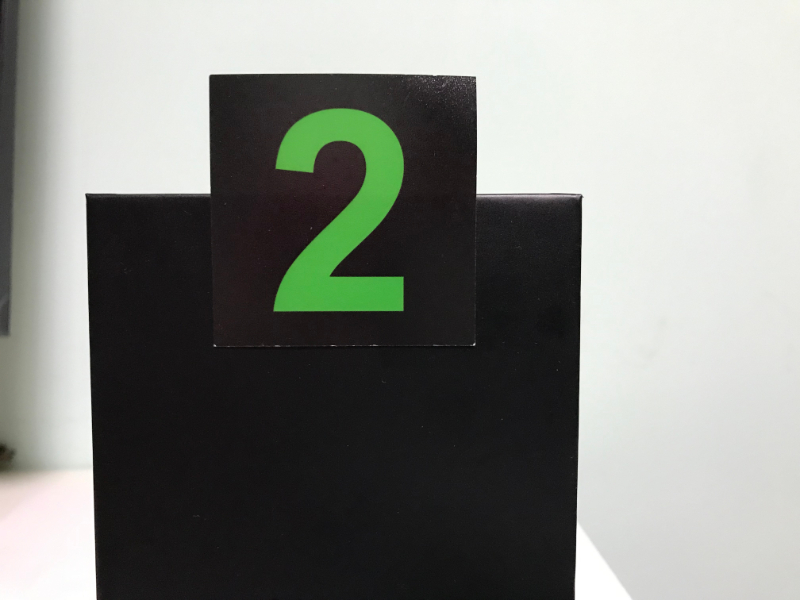Two-7: (215, 79, 469, 340)
